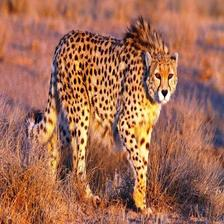Cheetah: (22, 12, 181, 216)
